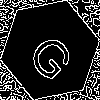G: (25, 25, 84, 85)
